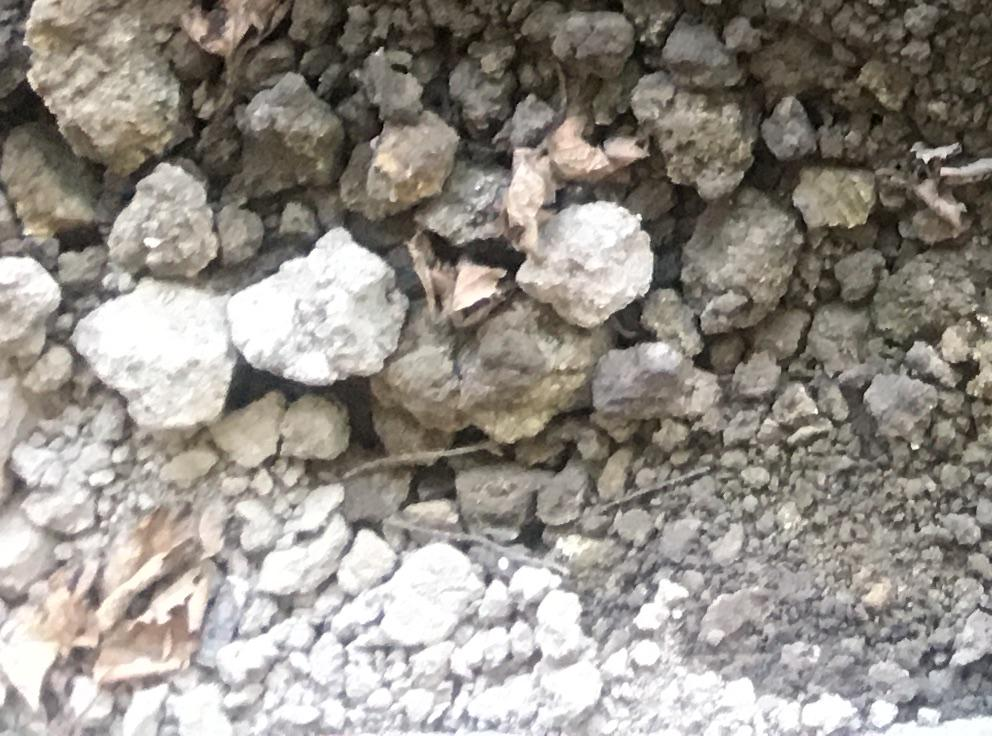block: (26, 1, 215, 175), (228, 229, 404, 388), (69, 274, 237, 430), (525, 202, 660, 334), (683, 186, 793, 343)
